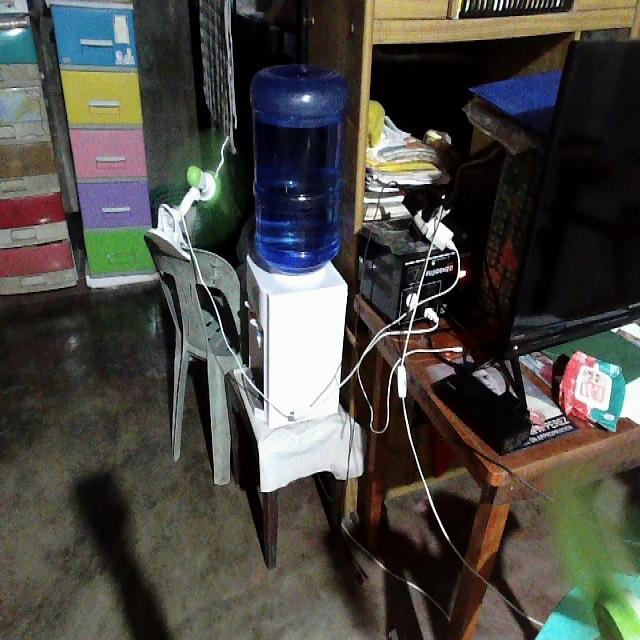-: (397, 177, 464, 251)
